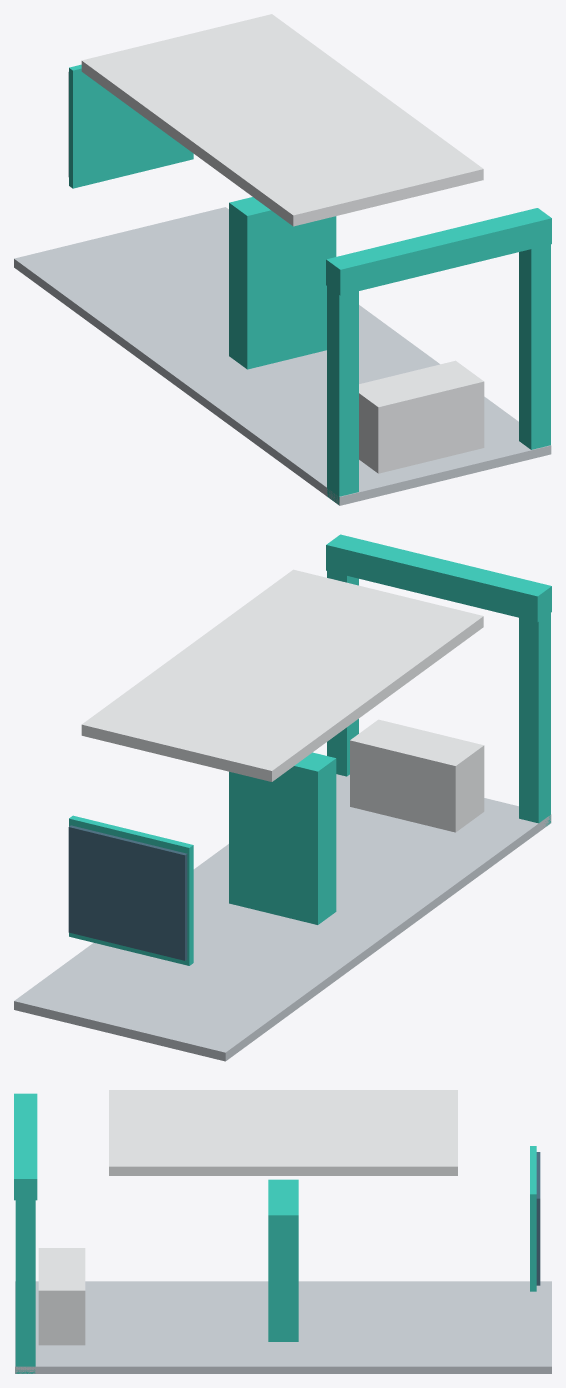
3 renders of one model, top to bottom at view 1: azimuth 30°, elevation 25°; view 2: azimuth 150°, elevation 25°; view 3: azimuth 270°, elevation 25°, orthographic. The views are drawn at different scales.
Parts seen in each view (by area): view 1: Exhibition Booth Concept; view 2: Exhibition Booth Concept; view 3: Exhibition Booth Concept.
Boxes of the visible parts, x1,y1,x2,y2 form: Exhibition Booth Concept: (14, 14, 551, 505); Exhibition Booth Concept: (14, 534, 551, 1061); Exhibition Booth Concept: (14, 1090, 551, 1373).
Size of the model in its own units: 3 by 3.34 by 8.01.
